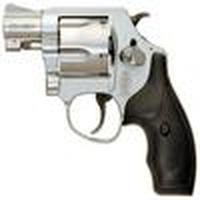gun: (3, 3, 200, 194)
